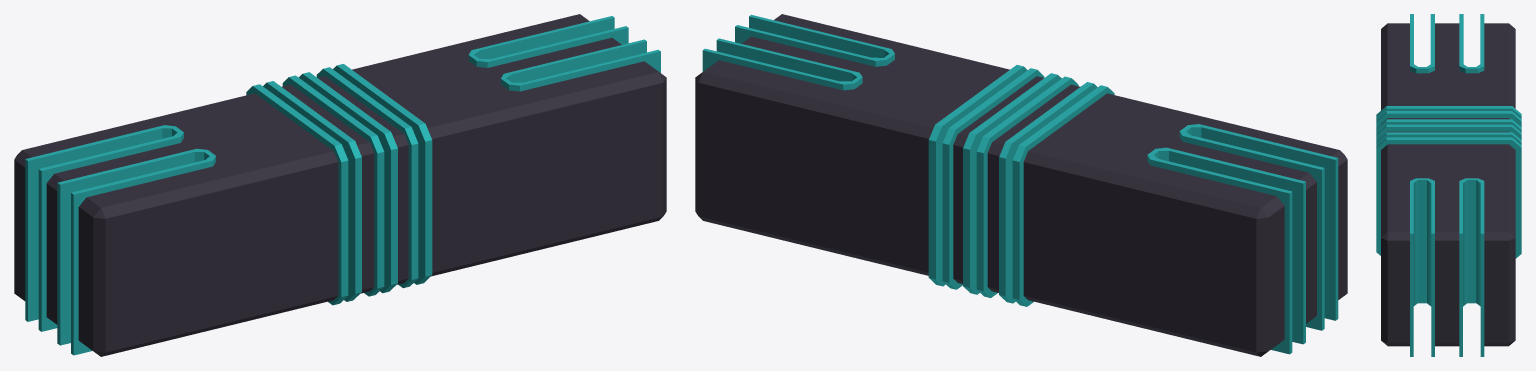
Rendered from wall gen 6.fbx.
3 renders of one model, left to right at view 1: azimuth 30°, elevation 25°; view 2: azimuth 150°, elevation 25°; view 3: azimuth 270°, elevation 25°, orthographic. The views are drawn at different scales.
Visible parts, largest first — view 1: polySurface1469; view 2: polySurface1469; view 3: polySurface1469.
Boxes of the visible parts, <box> form: polySurface1469: <box>14,14,666,356</box>; polySurface1469: <box>695,14,1347,356</box>; polySurface1469: <box>1376,14,1521,356</box>.
Size of the model in its own units: 107 by 27.94 by 29.86.
